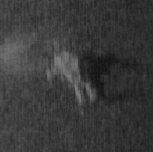man: (44, 41, 98, 117)
